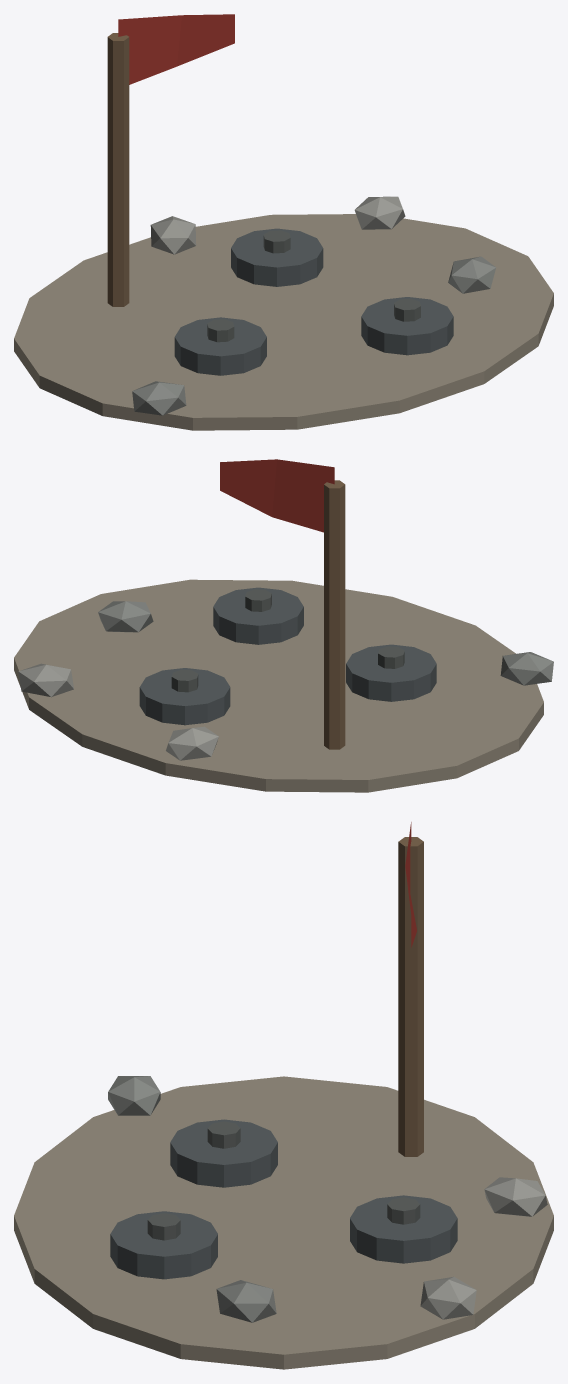
Rendered from mine-warning-cluster.glb.
The picture shows the model from 3 angles, top to bottom: view 1: azimuth 30°, elevation 25°; view 2: azimuth 150°, elevation 25°; view 3: azimuth 270°, elevation 25°; orthographic projection. The views are drawn at different scales.
Visible parts, largest first — view 1: TH_MineCluster_Ground, TH_MineCluster_WarningStake, TH_MineCluster_WarningRag, TH_MineCluster_Mine_0, TH_MineCluster_Mine_2, TH_MineCluster_Mine_1, TH_MineCluster_Stone_0, TH_MineCluster_Stone_1, TH_MineCluster_Stone_3, TH_MineCluster_Stone_2, TH_MineCluster_MineCap_2, TH_MineCluster_MineCap_0 (+1 smaller); view 2: TH_MineCluster_Ground, TH_MineCluster_WarningStake, TH_MineCluster_WarningRag, TH_MineCluster_Mine_2, TH_MineCluster_Mine_1, TH_MineCluster_Mine_0, TH_MineCluster_Stone_1, TH_MineCluster_Stone_0, TH_MineCluster_Stone_2, TH_MineCluster_Stone_3, TH_MineCluster_MineCap_2, TH_MineCluster_MineCap_1 (+1 smaller); view 3: TH_MineCluster_Ground, TH_MineCluster_WarningStake, TH_MineCluster_Mine_0, TH_MineCluster_Mine_1, TH_MineCluster_Mine_2, TH_MineCluster_Stone_3, TH_MineCluster_Stone_2, TH_MineCluster_Stone_1, TH_MineCluster_Stone_0, TH_MineCluster_MineCap_1, TH_MineCluster_MineCap_0, TH_MineCluster_MineCap_2.
Boxes of the visible parts, x1,y1,x2,y2 form: TH_MineCluster_Ground: (14, 214, 553, 430); TH_MineCluster_WarningStake: (107, 33, 129, 306); TH_MineCluster_WarningRag: (118, 14, 234, 84); TH_MineCluster_Mine_0: (174, 317, 266, 375); TH_MineCluster_Mine_2: (231, 228, 323, 286); TH_MineCluster_Mine_1: (361, 297, 453, 355); TH_MineCluster_Stone_0: (132, 381, 186, 415); TH_MineCluster_Stone_1: (354, 196, 405, 229); TH_MineCluster_Stone_3: (150, 216, 196, 254); TH_MineCluster_Stone_2: (448, 256, 496, 293); TH_MineCluster_MineCap_2: (263, 230, 290, 253); TH_MineCluster_MineCap_0: (207, 319, 234, 342); TH_MineCluster_Ground: (14, 579, 543, 792); TH_MineCluster_WarningStake: (324, 480, 345, 749); TH_MineCluster_WarningRag: (220, 459, 334, 532); TH_MineCluster_Mine_2: (139, 668, 230, 725); TH_MineCluster_Mine_1: (213, 587, 303, 644); TH_MineCluster_Mine_0: (346, 644, 436, 701); TH_MineCluster_Stone_1: (18, 663, 73, 697); TH_MineCluster_Stone_0: (500, 652, 553, 685); TH_MineCluster_Stone_2: (98, 601, 153, 632); TH_MineCluster_Stone_3: (166, 726, 218, 760); TH_MineCluster_MineCap_2: (171, 669, 198, 692); TH_MineCluster_MineCap_1: (245, 589, 271, 611); TH_MineCluster_Ground: (14, 1076, 553, 1369); TH_MineCluster_WarningStake: (398, 837, 423, 1156); TH_MineCluster_Mine_0: (170, 1119, 277, 1187); TH_MineCluster_Mine_1: (110, 1211, 217, 1279); TH_MineCluster_Mine_2: (350, 1195, 457, 1263); TH_MineCluster_Stone_3: (484, 1177, 547, 1216); TH_MineCluster_Stone_2: (216, 1280, 276, 1322); TH_MineCluster_Stone_1: (420, 1276, 476, 1319); TH_MineCluster_Stone_0: (108, 1076, 160, 1115); TH_MineCluster_MineCap_1: (147, 1213, 180, 1240); TH_MineCluster_MineCap_0: (207, 1121, 240, 1148); TH_MineCluster_MineCap_2: (387, 1197, 420, 1224).
Size of the model in its own units: 0.88 by 0.51 by 0.7216.
